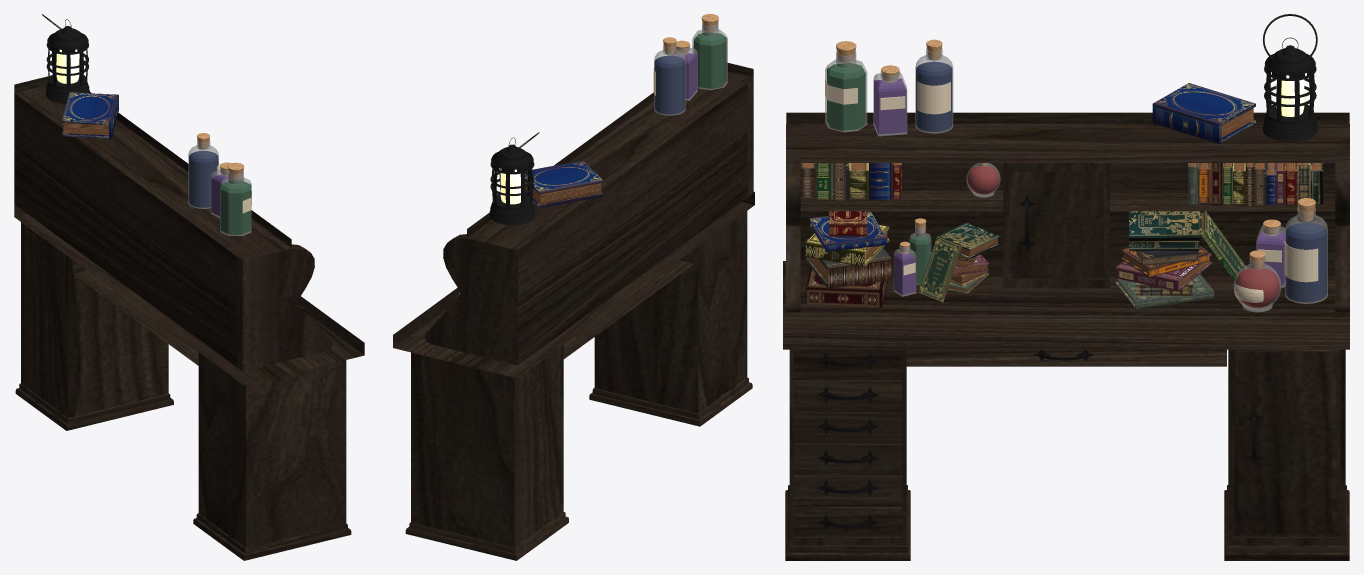
The model's file is desk.glb.
The picture shows the model from 3 angles, left to right: view 1: azimuth 30°, elevation 25°; view 2: azimuth 150°, elevation 25°; view 3: azimuth 270°, elevation 25°; orthographic projection. The views are drawn at different scales.
Visible parts, largest first — view 1: Desk_0; view 2: Desk_0; view 3: Desk_0.
Part boxes in pixels (x1,y1,x2,y2): Desk_0: (14, 14, 364, 560); Desk_0: (393, 14, 754, 560); Desk_0: (783, 14, 1349, 560).
Size of the model in its own units: 1.74 by 4.73 by 5.
17 materials, 15 textured.
